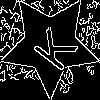K: (25, 20, 79, 74)
